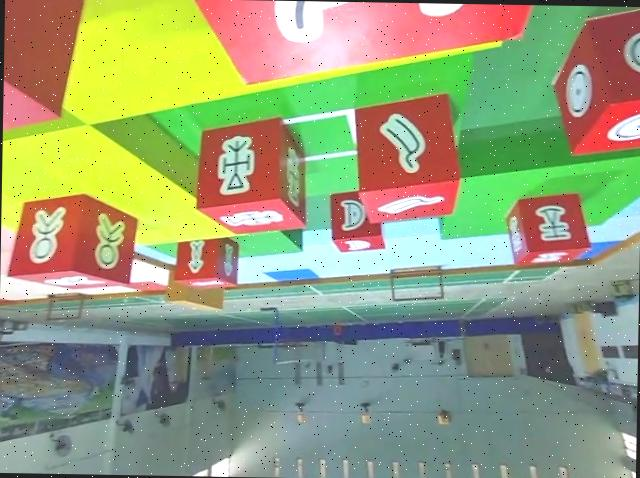R2 Real: (351, 85, 462, 227), (192, 115, 309, 236), (552, 6, 640, 161), (5, 188, 136, 290), (501, 189, 592, 269), (327, 190, 387, 253), (173, 235, 239, 288)
